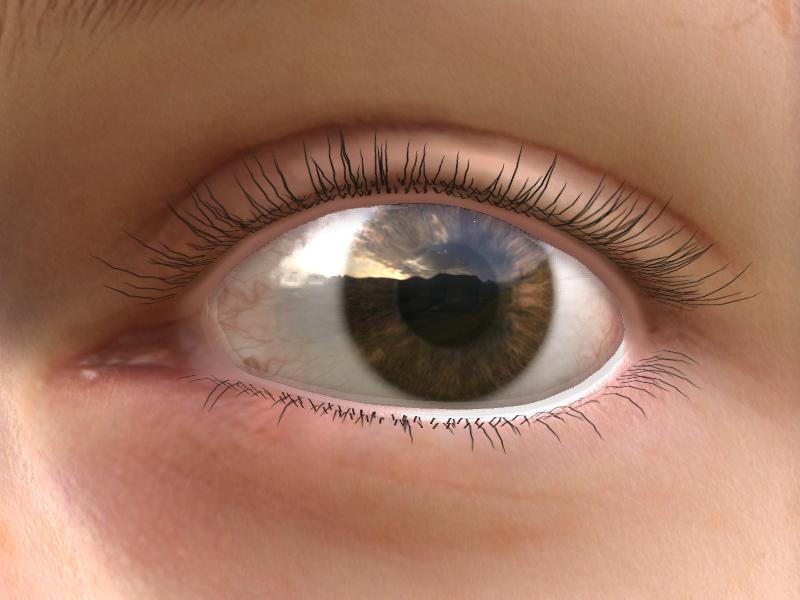eye: (338, 200, 554, 403)
